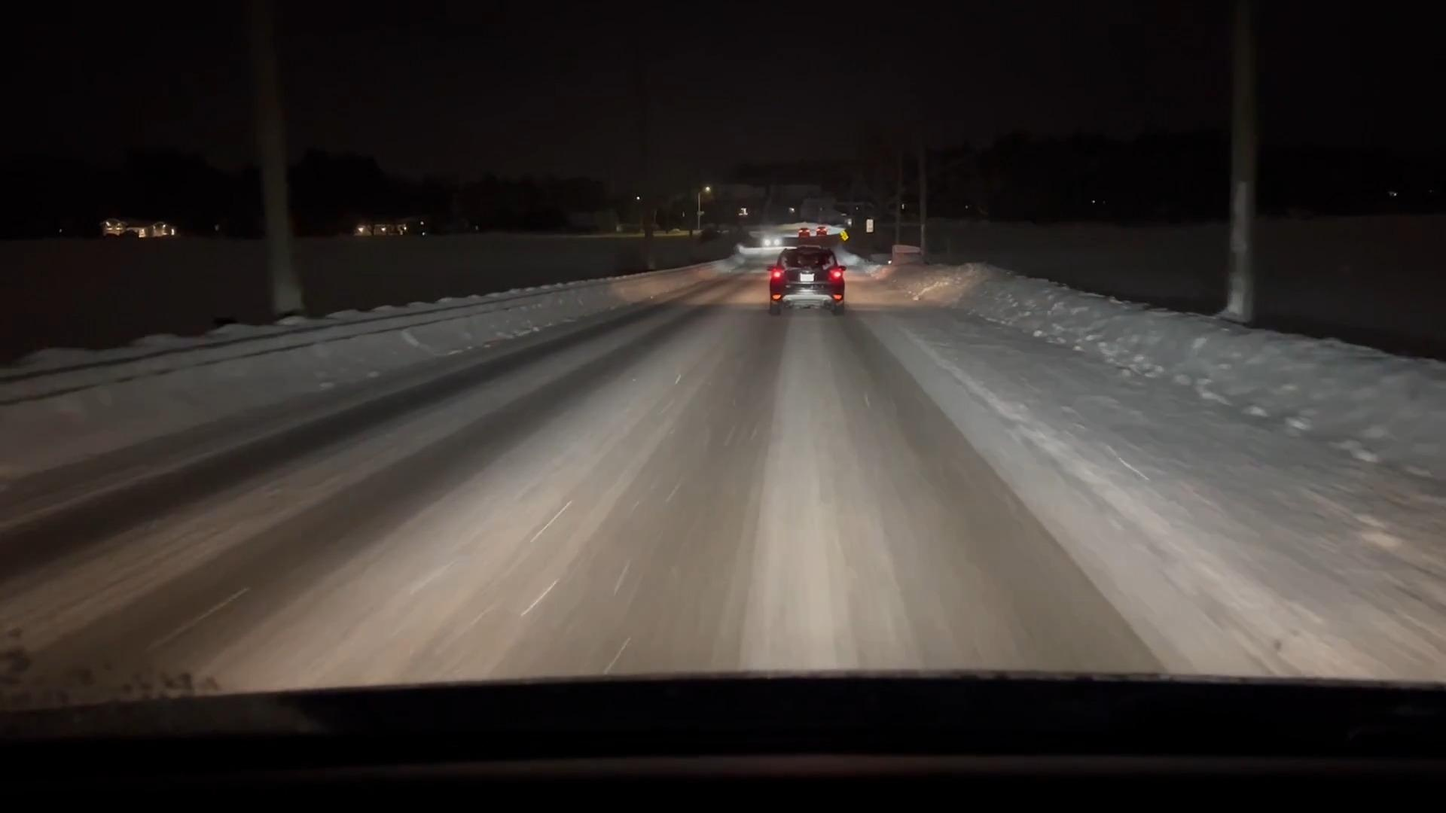Snow: (0, 233, 1446, 708)
